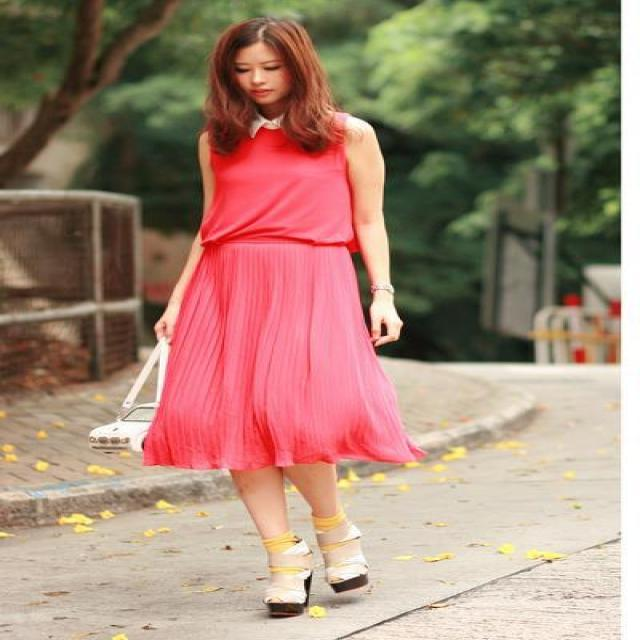bag: (96, 397, 154, 447)
dress: (142, 127, 422, 468)
shoe: (258, 543, 370, 618)
